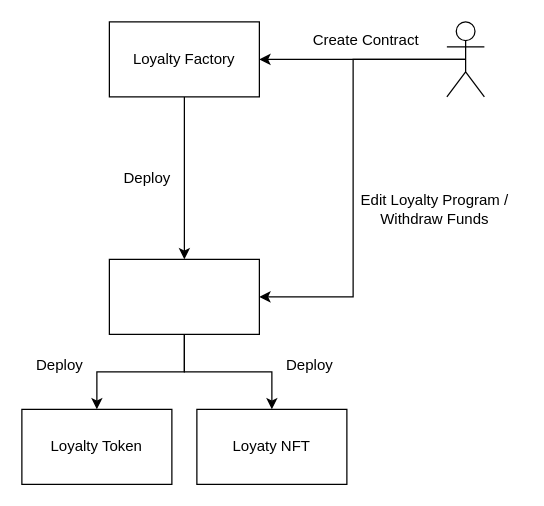
Image size: 544x506. Some labels were removed from this diagram. The shapes that lost their labels are listed below. From the top down, each one's centre as x and y in pixels, then its label:
point 465,59: Merchant
point 183,296: Loyalty Contract
